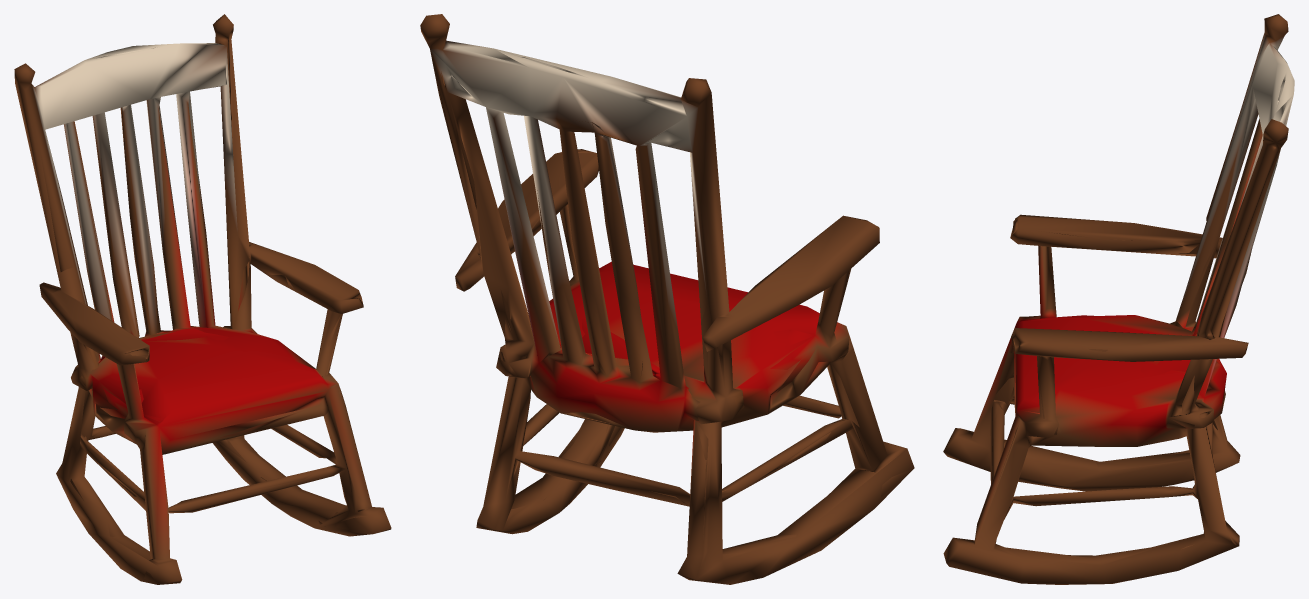
File: gen3d-rocking-chair-lod1.glb
3 renders of one model, left to right at view 1: azimuth 30°, elevation 25°; view 2: azimuth 150°, elevation 25°; view 3: azimuth 270°, elevation 25°, orthographic. The views are drawn at different scales.
Visible parts, largest first — view 1: part_0; view 2: part_0; view 3: part_0.
Part boxes in pixels (box(x1,y1,x2,y2)): part_0: box(14, 14, 391, 584); part_0: box(420, 14, 914, 584); part_0: box(943, 14, 1294, 584).
Size of the model in its own units: 0.5974 by 0.9973 by 0.6804.
